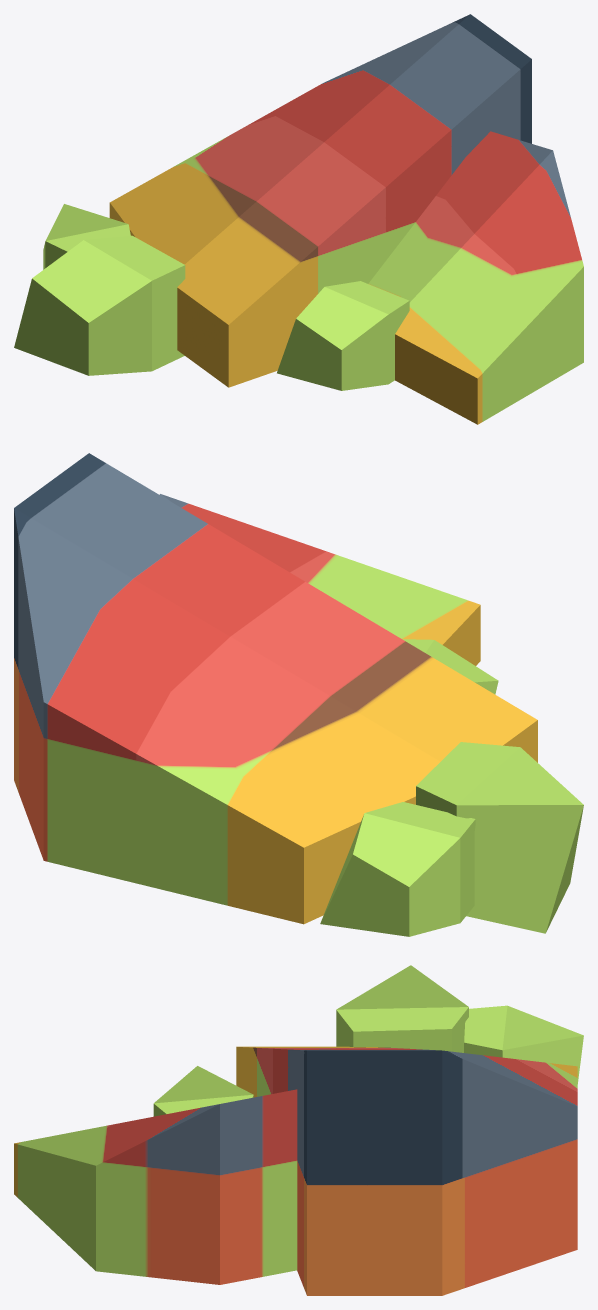
Rendered from rock_10.fbx.
The picture shows the model from 3 angles, top to bottom: view 1: azimuth 30°, elevation 25°; view 2: azimuth 150°, elevation 25°; view 3: azimuth 270°, elevation 25°; orthographic projection. The views are drawn at different scales.
Visible parts, largest first — view 1: rock_10; view 2: rock_10; view 3: rock_10.
Part boxes in pixels (x1=…): rock_10: x1=14, y1=14, x2=583, y2=424; rock_10: x1=14, y1=453, x2=583, y2=936; rock_10: x1=14, y1=965, x2=583, y2=1295.
Bounding box in the file's own units: 194 × 95.23 × 192.
